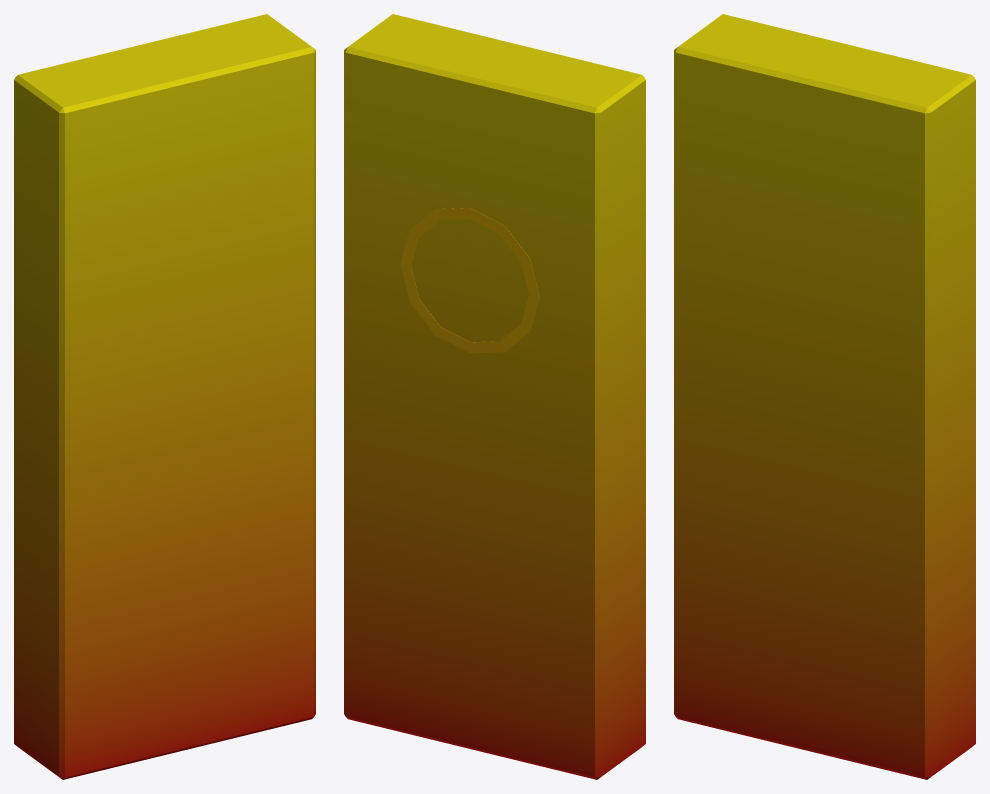
File: stele.glb
3 renders of one model, left to right at view 1: azimuth 30°, elevation 25°; view 2: azimuth 150°, elevation 25°; view 3: azimuth 330°, elevation 25°, orthographic.
Parts seen in each view (by area): view 1: stele; view 2: stele; view 3: stele.
Boxes of the visible parts, <box> form: stele: <box>14,14,315,779</box>; stele: <box>344,14,645,779</box>; stele: <box>674,14,975,779</box>.
Size of what is drawn, in the model's own units: 1.2 by 3 by 0.401.
